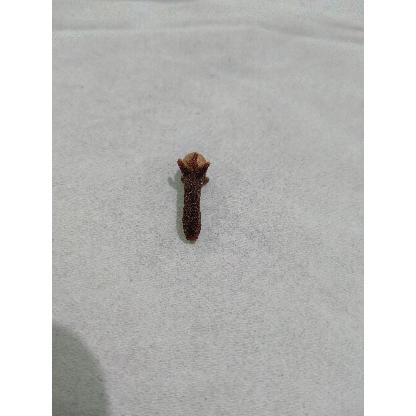baik: (177, 152, 211, 245)
